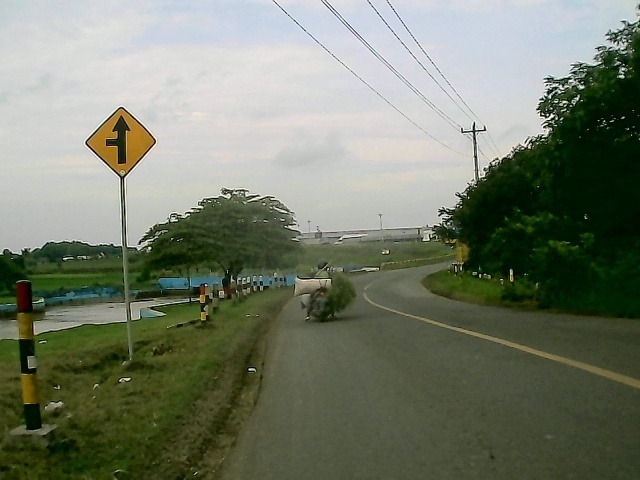Simpang kiri dengan prioritas: (81, 106, 160, 180)
